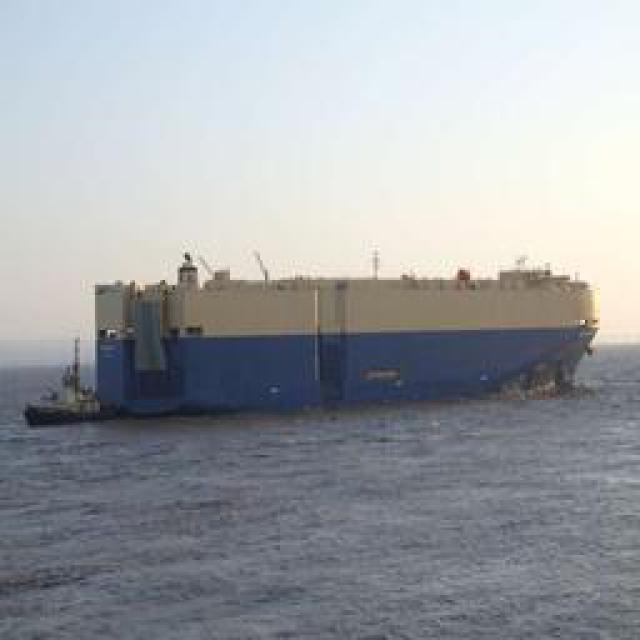Ship: (69, 259, 602, 422)
